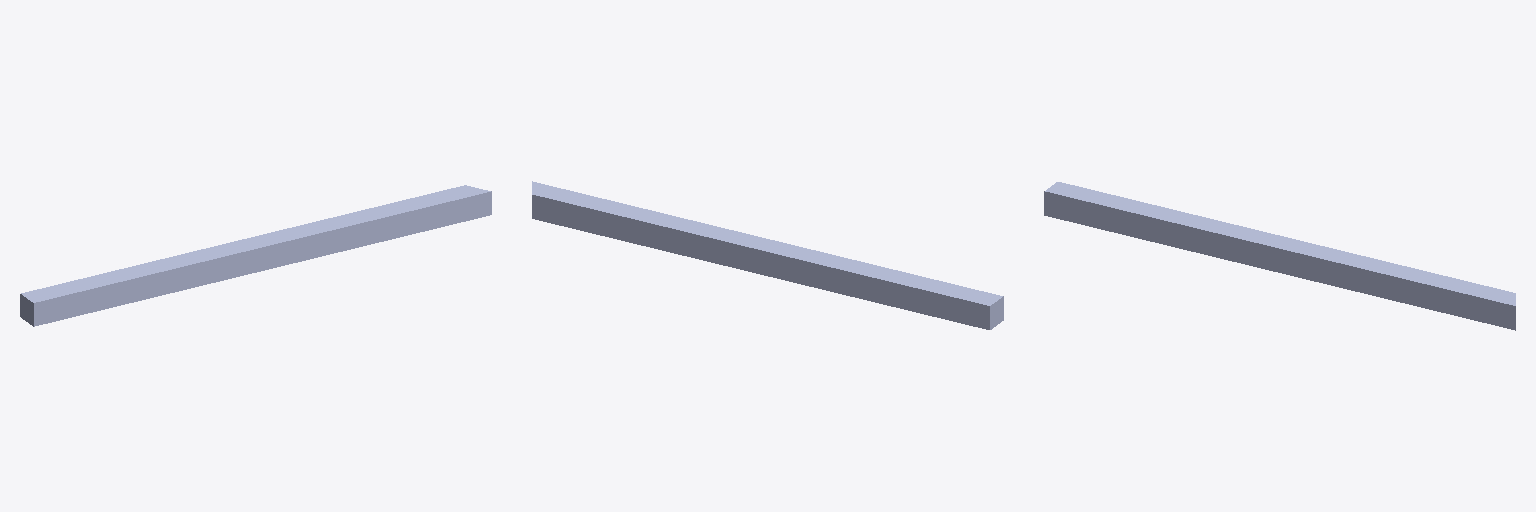
The robot description file, URDF, robot "road4":
<?xml version="1.0" encoding="utf-8"?>
<!-- This URDF was automatically created by SolidWorks to URDF Exporter! Originally created by [author] ([email redacted]) 
     Commit Version: 1.6.0-4-g7f85cfe  Build Version: 1.6.7995.38578
     For more information, please see http://wiki.ros.org/sw_urdf_exporter -->
<robot
  name="road4">
  <link
    name="base_link">
    <inertial>
      <origin
        xyz="0.309447685052727 0.01 0.57377891871561"
        rpy="0 0 0" />
      <mass
        value="0.159547005383793" />
      <inertia
        ixx="1.063609560364E-05"
        ixy="8.91352540856436E-21"
        ixz="-1.53513455483195E-06"
        iyy="0.002121469004692"
        iyz="-2.48314584604327E-22"
        izz="0.00212146937611394" />
    </inertial>
    <visual>
      <origin
        xyz="0 0 0"
        rpy="0 0 0" />
      <geometry>
        <mesh
          filename="package://road4/meshes/base_link.STL" />
      </geometry>
      <material
        name="">
        <color
          rgba="0.792156862745098 0.819607843137255 0.933333333333333 1" />
      </material>
    </visual>
    <collision>
      <origin
        xyz="0 0 0"
        rpy="0 0 0" />
      <geometry>
        <mesh
          filename="package://road4/meshes/base_link.STL" />
      </geometry>
    </collision>
  </link>
</robot>

--- What the picture shows (computed from the rendered views, not written in the file) ---
The picture shows the robot from 3 angles, left to right: view 1: azimuth 30°, elevation 25°; view 2: azimuth 150°, elevation 25°; view 3: azimuth 330°, elevation 25°; orthographic projection.
Robot: road4 — 1 links, 0 joints (none); root link base_link; default pose: all joints at 0.
Visible links, largest first — view 1: base_link; view 2: base_link; view 3: base_link.
Boxes of the visible links, <box> form: base_link: <box>20,185,491,326</box>; base_link: <box>532,181,1003,329</box>; base_link: <box>1044,182,1515,330</box>.
Bounding box of the posed robot: 0.4046 × 0.02 × 0.02 m (x, y, z).
Meshes: 1 distinct files referenced, 1 mesh visuals loaded (1 binary STL).